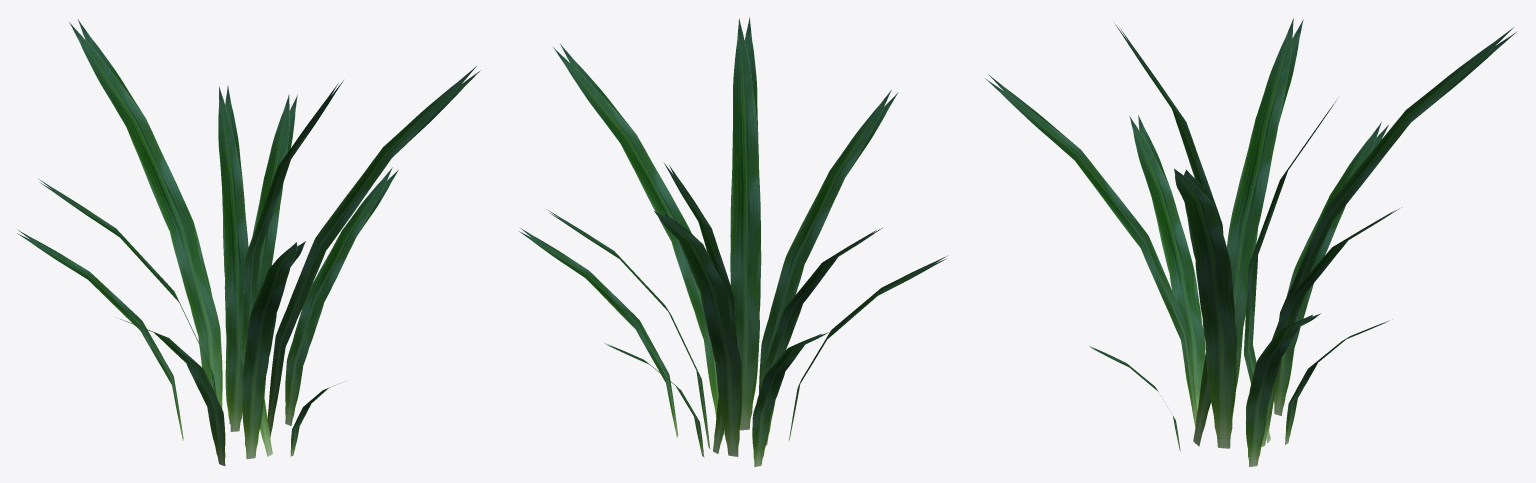
The model's file is Weed_01.FBX.
The picture shows the model from 3 angles, left to right: view 1: azimuth 30°, elevation 25°; view 2: azimuth 150°, elevation 25°; view 3: azimuth 270°, elevation 25°; orthographic projection. The views are drawn at different scales.
Parts seen in each view (by area): view 1: Weed_01; view 2: Weed_01; view 3: Weed_01.
Part boxes in pixels (bbox=[...]): Weed_01: bbox=[17, 19, 480, 465]; Weed_01: bbox=[519, 17, 948, 466]; Weed_01: bbox=[985, 18, 1517, 466].
Size of the model in its own units: 0.2998 by 0.2858 by 0.3145.
